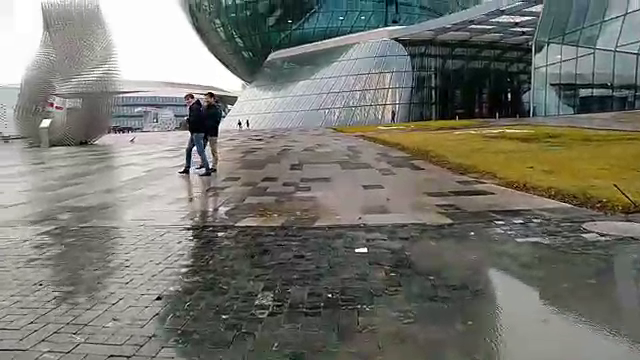kassa: (132, 102, 180, 140)
